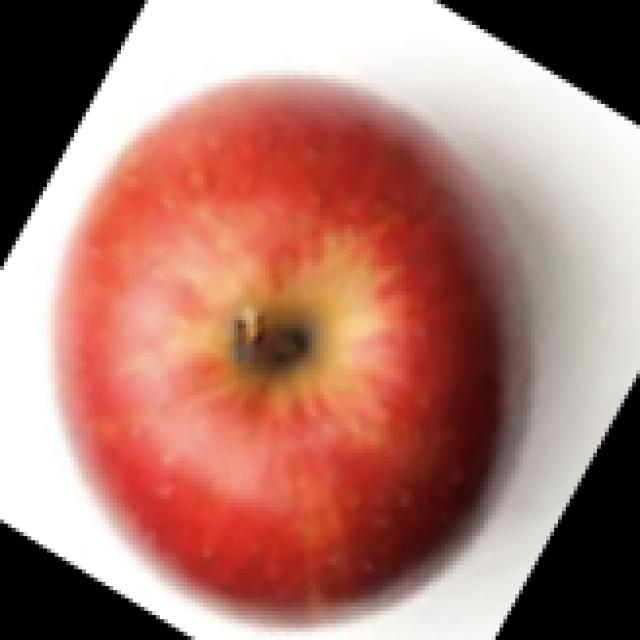Fresh Apple: (88, 77, 512, 623)
